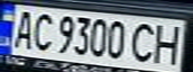0: (106, 18, 130, 61), (90, 16, 109, 60)
3: (69, 14, 90, 56)
9: (51, 11, 75, 55)
A: (6, 7, 39, 51)
C: (127, 20, 160, 64), (27, 10, 57, 52)
H: (148, 20, 187, 65)
